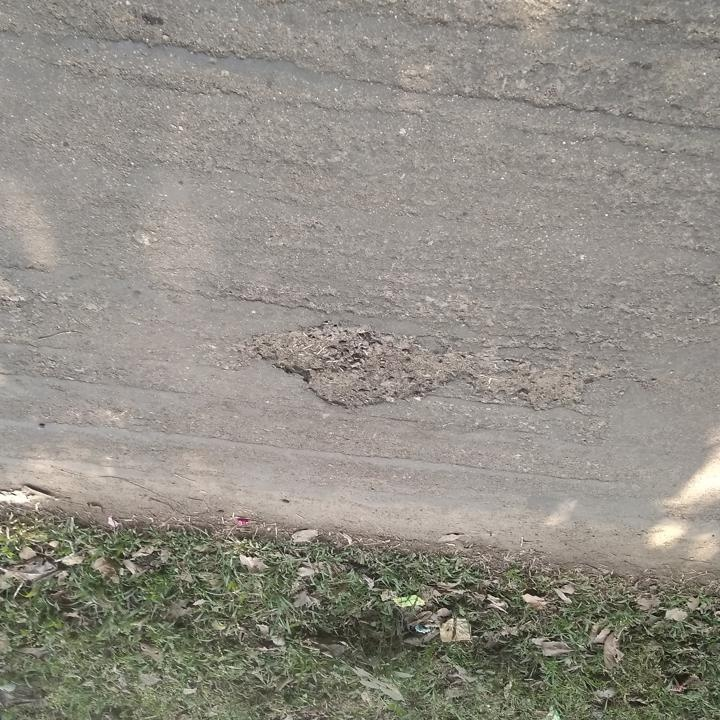pothole: (240, 322, 600, 417)
